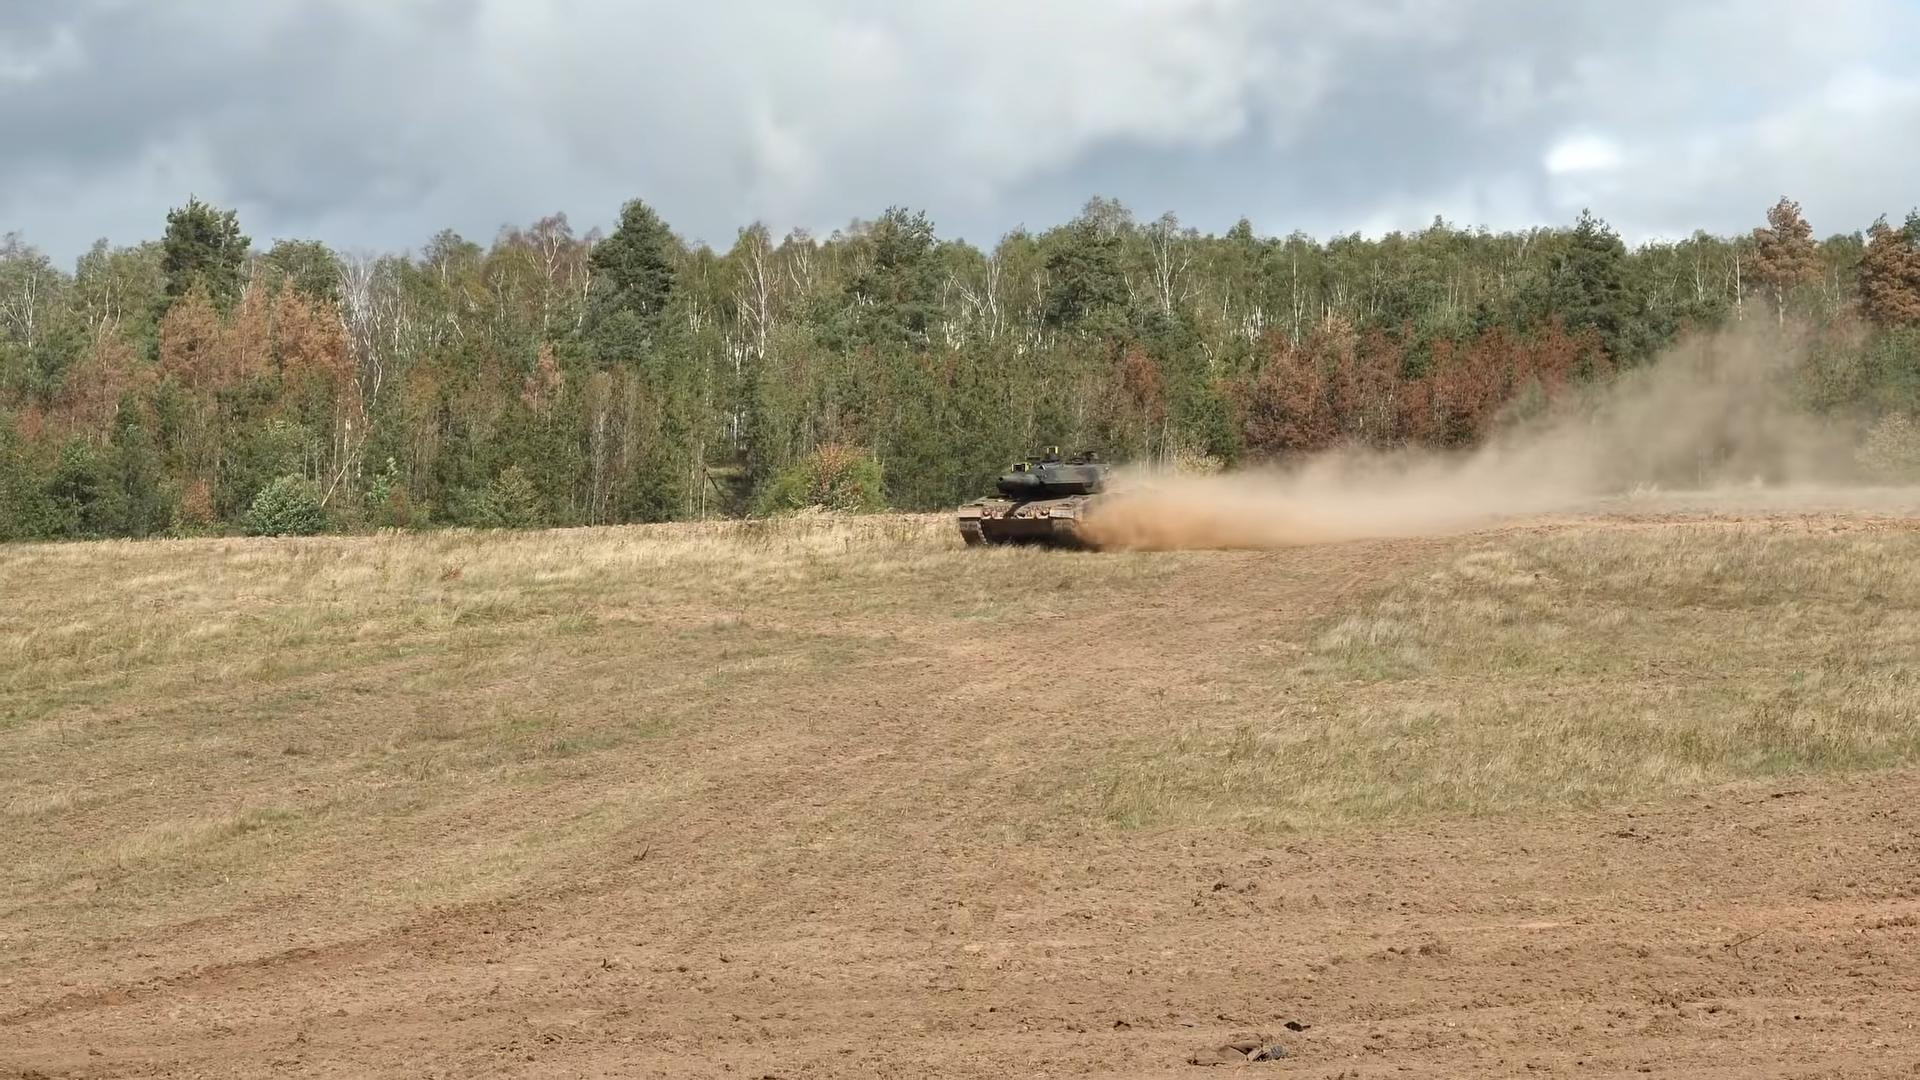tank: (959, 446, 1124, 550)
